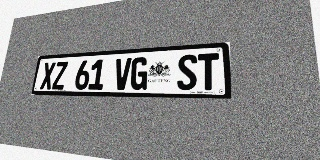1: (88, 59, 106, 90)
6: (74, 60, 91, 90)
G: (130, 57, 149, 90)
S: (177, 54, 197, 90)
T: (198, 53, 219, 90)
V: (113, 58, 132, 90)
X: (40, 62, 56, 89)
Z: (52, 61, 68, 89)
